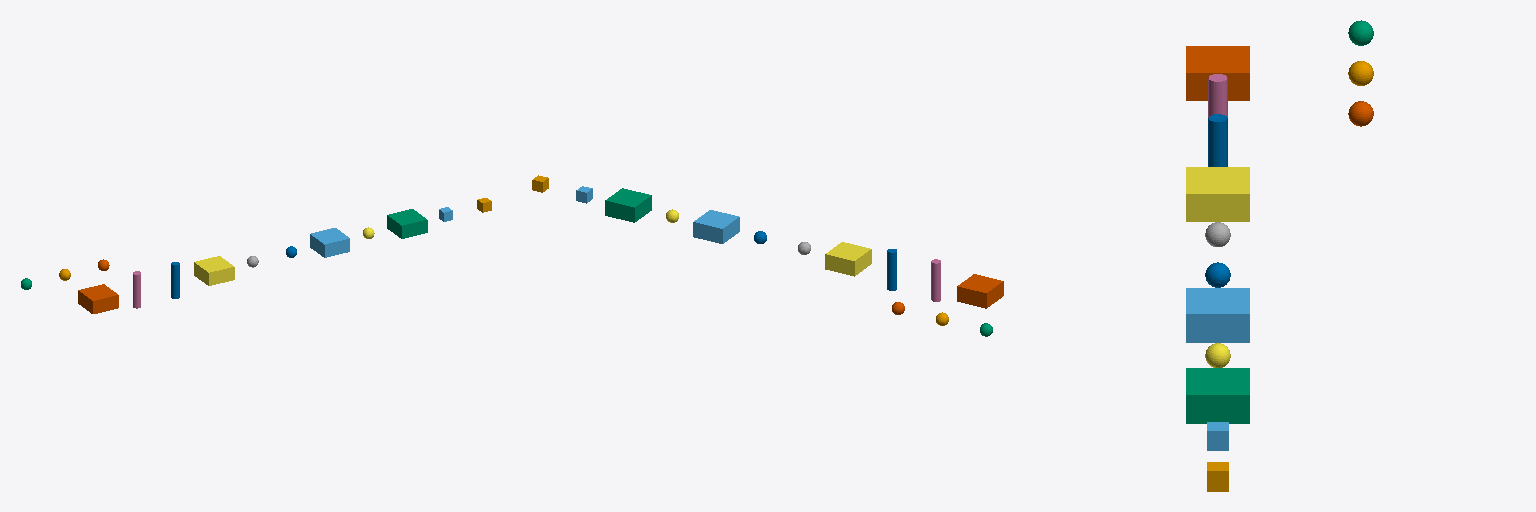
The robot description file, URDF, robot "transmission_automatic_control_with_inhibitor_means":
<?xml version="1.0" ?>
<robot name="transmission_automatic_control_with_inhibitor_means">
  <link name="automatic_control_valve_means">
    <visual>
      <geometry>
        <sphere radius="0.008"/>
      </geometry>
    </visual>
  </link>
  <link name="fluid_source">
    <visual>
      <geometry>
        <box size="0.04 0.04 0.02"/>
      </geometry>
    </visual>
  </link>
  <link name="governor">
    <visual>
      <geometry>
        <sphere radius="0.008"/>
      </geometry>
    </visual>
  </link>
  <link name="governor_pressure">
    <visual>
      <geometry>
        <sphere radius="0.008"/>
      </geometry>
    </visual>
  </link>
  <link name="high_friction_device">
    <visual>
      <geometry>
        <sphere radius="0.008"/>
      </geometry>
    </visual>
  </link>
  <link name="inhibitor_means">
    <visual>
      <geometry>
        <sphere radius="0.008"/>
      </geometry>
    </visual>
  </link>
  <link name="input_element">
    <visual>
      <geometry>
        <cylinder radius="0.006" length="0.05"/>
      </geometry>
    </visual>
  </link>
  <link name="low_friction_device">
    <visual>
      <geometry>
        <sphere radius="0.008"/>
      </geometry>
    </visual>
  </link>
  <link name="low_high_signal_line">
    <visual>
      <geometry>
        <box size="0.014 0.014 0.014"/>
      </geometry>
    </visual>
  </link>
  <link name="manual_low_signal_line">
    <visual>
      <geometry>
        <box size="0.014 0.014 0.014"/>
      </geometry>
    </visual>
  </link>
  <link name="manual_valve">
    <visual>
      <geometry>
        <box size="0.04 0.04 0.02"/>
      </geometry>
    </visual>
  </link>
  <link name="multi_ratio_drive_gear_unit">
    <visual>
      <geometry>
        <box size="0.04 0.04 0.02"/>
      </geometry>
    </visual>
  </link>
  <link name="output_element">
    <visual>
      <geometry>
        <cylinder radius="0.006" length="0.05"/>
      </geometry>
    </visual>
  </link>
  <link name="transmission">
    <visual>
      <geometry>
        <box size="0.04 0.04 0.02"/>
      </geometry>
    </visual>
  </link>
  <joint name="_attach_automatic_control_valve_means_to_manual_valve" type="fixed">
    <parent link="automatic_control_valve_means"/>
    <child link="manual_valve"/>
    <origin xyz="0.4800 -0.0900 0.0000" rpy="0 0 0"/>
  </joint>
  <joint name="_attach_governor_to_automatic_control_valve_means" type="fixed">
    <parent link="governor"/>
    <child link="automatic_control_valve_means"/>
    <origin xyz="0.0600 0.0000 0.0000" rpy="0 0 0"/>
  </joint>
  <joint name="_attach_governor_to_governor_pressure" type="fixed">
    <parent link="governor"/>
    <child link="governor_pressure"/>
    <origin xyz="0.4800 -0.0900 0.0000" rpy="0 0 0"/>
  </joint>
  <joint name="_attach_governor_to_high_friction_device" type="fixed">
    <parent link="governor"/>
    <child link="high_friction_device"/>
    <origin xyz="0.3600 -0.0900 0.0000" rpy="0 0 0"/>
  </joint>
  <joint name="_attach_governor_to_inhibitor_means" type="fixed">
    <parent link="governor"/>
    <child link="inhibitor_means"/>
    <origin xyz="0.1200 0.0000 0.0000" rpy="0 0 0"/>
  </joint>
  <joint name="_attach_governor_to_input_element" type="fixed">
    <parent link="governor"/>
    <child link="input_element"/>
    <origin xyz="0.1200 -0.0900 0.0000" rpy="0 0 0"/>
  </joint>
  <joint name="_attach_governor_to_low_friction_device" type="fixed">
    <parent link="governor"/>
    <child link="low_friction_device"/>
    <origin xyz="0.3000 -0.0900 0.0000" rpy="0 0 0"/>
  </joint>
  <joint name="_attach_governor_to_low_high_signal_line" type="fixed">
    <parent link="governor"/>
    <child link="low_high_signal_line"/>
    <origin xyz="0.6600 -0.0900 0.0000" rpy="0 0 0"/>
  </joint>
  <joint name="_attach_governor_to_manual_low_signal_line" type="fixed">
    <parent link="governor"/>
    <child link="manual_low_signal_line"/>
    <origin xyz="0.6000 -0.0900 0.0000" rpy="0 0 0"/>
  </joint>
  <joint name="_attach_governor_to_multi_ratio_drive_gear_unit" type="fixed">
    <parent link="governor"/>
    <child link="multi_ratio_drive_gear_unit"/>
    <origin xyz="0.2400 -0.0900 0.0000" rpy="0 0 0"/>
  </joint>
  <joint name="_attach_governor_to_output_element" type="fixed">
    <parent link="governor"/>
    <child link="output_element"/>
    <origin xyz="0.1800 -0.0900 0.0000" rpy="0 0 0"/>
  </joint>
  <joint name="_attach_governor_to_transmission" type="fixed">
    <parent link="governor"/>
    <child link="transmission"/>
    <origin xyz="0.0600 -0.0900 0.0000" rpy="0 0 0"/>
  </joint>
  <joint name="_attach_manual_valve_to_fluid_source" type="fixed">
    <parent link="manual_valve"/>
    <child link="fluid_source"/>
    <origin xyz="-0.1200 0.0000 0.0000" rpy="0 0 0"/>
  </joint>
</robot>

--- What the picture shows (computed from the rendered views, not written in the file) ---
3 views of the same robot in one strip: view 1: azimuth 30°, elevation 25°; view 2: azimuth 150°, elevation 25°; view 3: azimuth 270°, elevation 25° (orthographic).
Model transmission_automatic_control_with_inhibitor_means with 14 links and 13 joints (13 fixed), rooted at governor, posed every joint at zero.
Links seen in each view (by area): view 1: transmission, multi_ratio_drive_gear_unit, manual_valve, fluid_source; view 2: transmission, manual_valve, multi_ratio_drive_gear_unit, fluid_source; view 3: manual_valve, fluid_source, multi_ratio_drive_gear_unit, transmission, output_element, input_element, low_high_signal_line, manual_low_signal_line.
Link boxes in pixels (<box>): transmission: <box>78,284,118,313</box>; multi_ratio_drive_gear_unit: <box>194,256,234,285</box>; manual_valve: <box>387,209,427,238</box>; fluid_source: <box>310,228,349,257</box>; transmission: <box>957,274,1003,308</box>; manual_valve: <box>605,188,651,222</box>; multi_ratio_drive_gear_unit: <box>825,242,871,276</box>; fluid_source: <box>693,210,739,243</box>; manual_valve: <box>1186,368,1249,423</box>; fluid_source: <box>1186,288,1249,342</box>; multi_ratio_drive_gear_unit: <box>1186,167,1249,221</box>; transmission: <box>1186,46,1249,100</box>; output_element: <box>1208,114,1227,166</box>; input_element: <box>1208,74,1227,117</box>; low_high_signal_line: <box>1207,462,1228,491</box>; manual_low_signal_line: <box>1207,422,1228,450</box>.
Size in the robot's own frame: 0.675 by 0.118 by 0.05 metres.
Geometry: primitives only (box / cylinder / sphere), no mesh files.
